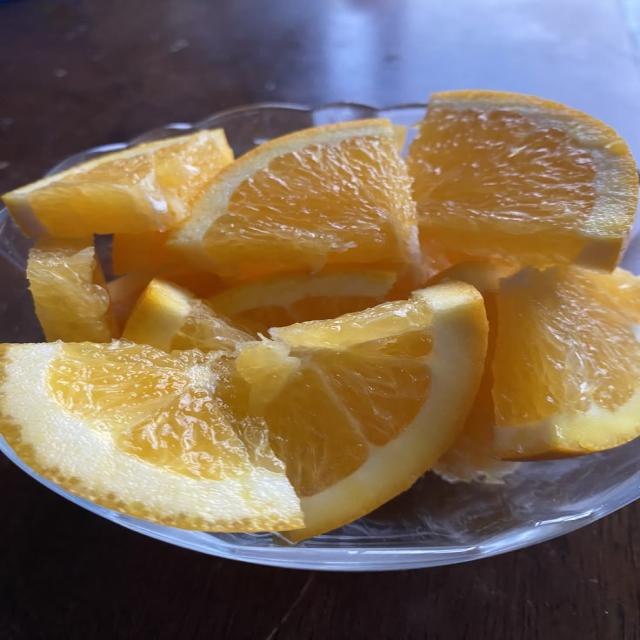orange: (0, 283, 486, 540), (238, 283, 486, 540), (0, 341, 302, 531), (407, 91, 638, 270), (168, 120, 417, 277), (493, 267, 639, 459), (3, 130, 233, 237), (430, 261, 515, 483), (208, 269, 395, 330), (123, 279, 255, 352), (27, 238, 119, 342)
